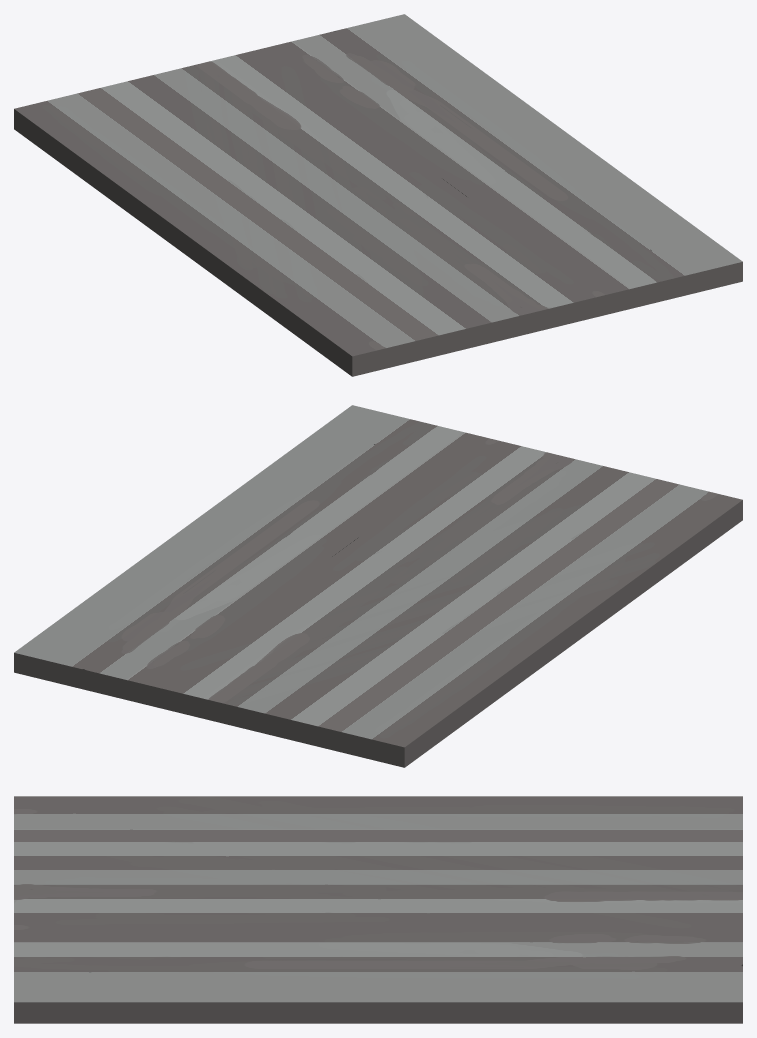
Rendered from SheetMetal.fbx.
3 renders of one model, top to bottom at view 1: azimuth 30°, elevation 25°; view 2: azimuth 150°, elevation 25°; view 3: azimuth 270°, elevation 25°, orthographic. The views are drawn at different scales.
Visible parts, largest first — view 1: Awning; view 2: Awning; view 3: Awning.
Boxes of the visible parts, x1,y1,x2,y2 form: Awning: (14, 14, 742, 376); Awning: (14, 405, 742, 767); Awning: (14, 796, 742, 1023).
Size of the model in its own units: 20 by 1 by 30.
Materials: 1 (1 with a texture image).
